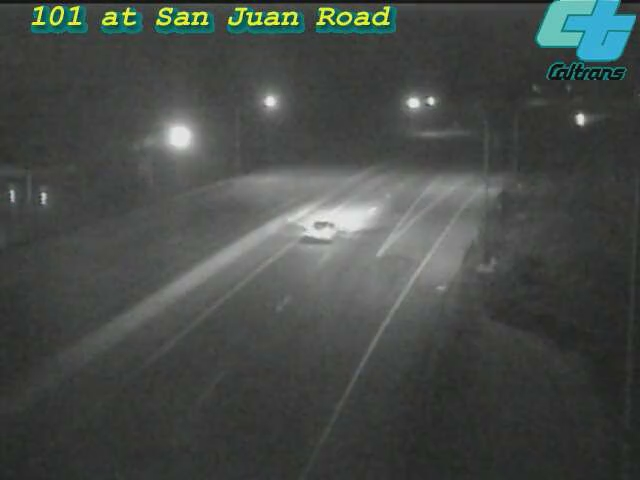vehicle: (280, 189, 360, 269), (556, 93, 606, 143)
